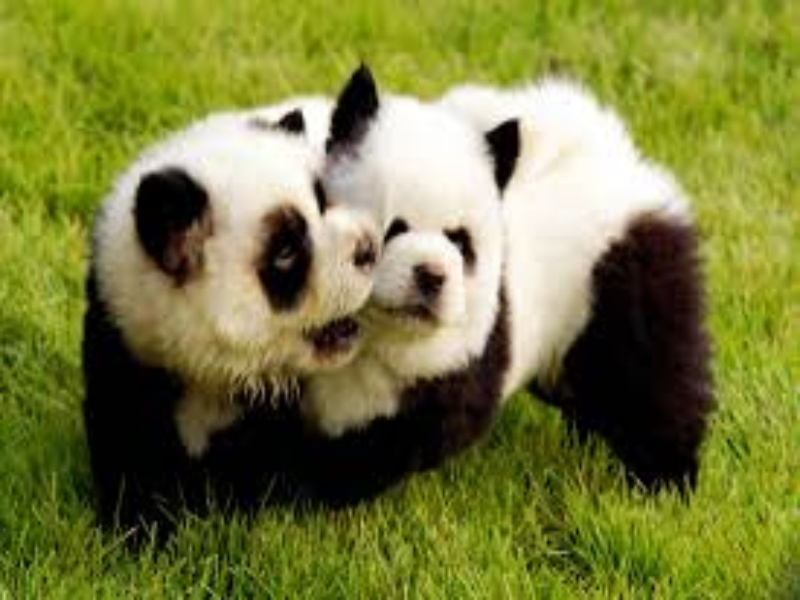dog: (338, 66, 723, 503), (69, 87, 384, 537)
